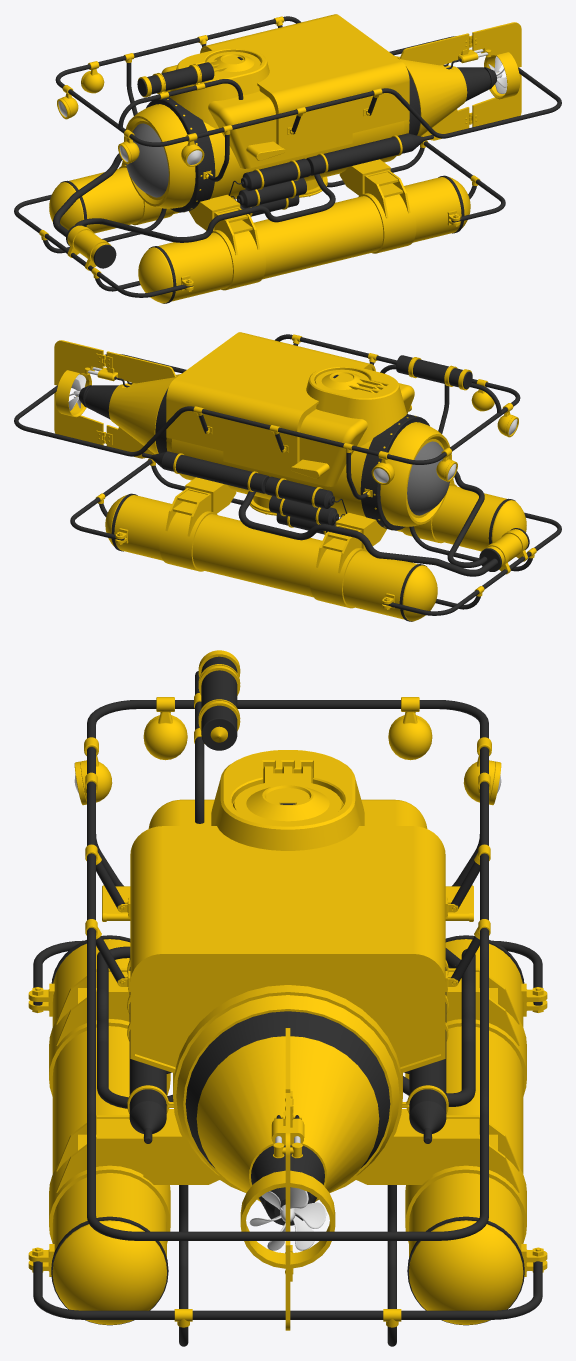
File: Submarine_model.fbx
3 renders of one model, top to bottom at view 1: azimuth 30°, elevation 25°; view 2: azimuth 150°, elevation 25°; view 3: azimuth 270°, elevation 25°, orthographic. The views are drawn at different scales.
Visible parts, largest first — view 1: Object_3, Object_7, Object_2, Object_4, Object_5; view 2: Object_3, Object_7, Object_2, Object_4, Object_5; view 3: Object_3, Object_7, Object_4, Object_5.
Boxes of the visible parts, <box> form: Object_3: <box>49,14,521,303</box>; Object_7: <box>14,16,561,303</box>; Object_2: <box>126,123,168,197</box>; Object_4: <box>39,35,476,291</box>; Object_5: <box>474,49,507,93</box>; Object_3: <box>54,332,536,621</box>; Object_7: <box>14,334,561,621</box>; Object_2: <box>407,441,449,515</box>; Object_4: <box>96,353,513,596</box>; Object_5: <box>68,367,101,410</box>; Object_3: <box>28,664,547,1330</box>; Object_7: <box>33,656,542,1346</box>; Object_4: <box>28,650,490,1281</box>; Object_5: <box>249,1136,326,1250</box>.
Size of the model in its own units: 5.3 by 2.26 by 2.63.
